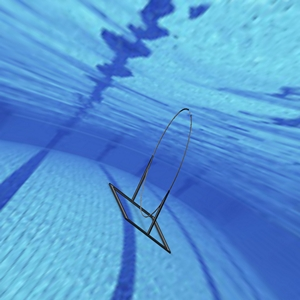circle: (108, 106, 193, 253)
